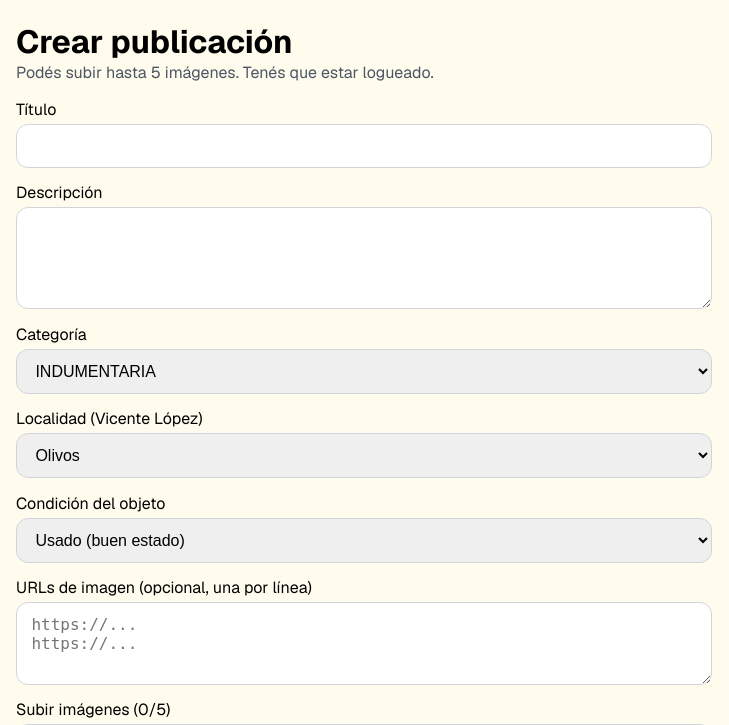
Test: CrearPublicacionPage › muestra error cuando falla la creación
The width and height of the screenshot is (729, 725).
In the field labelled "Título": {"x": 364, "y": 146} 16,124 -> 712,168, type "Mesa de comedor"
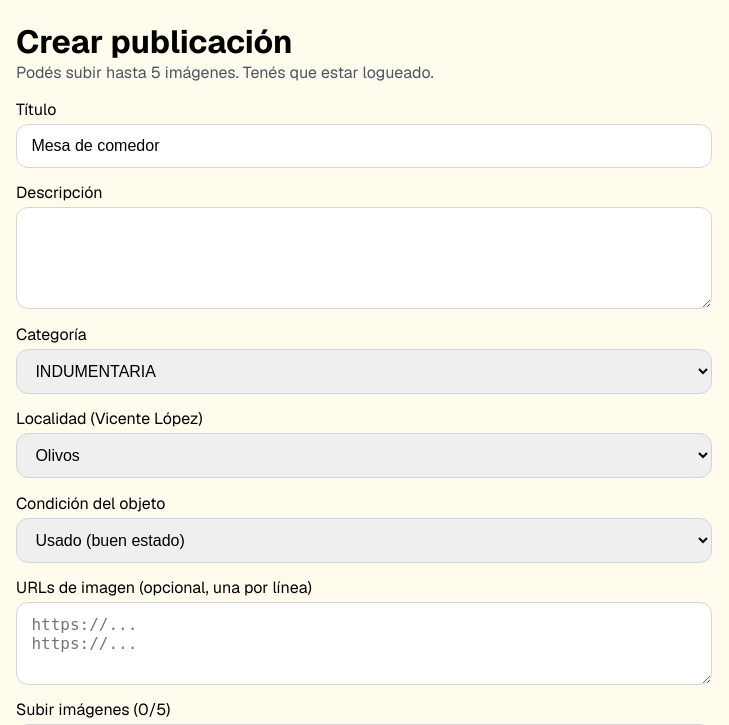
In the text box labelled "Descripción": {"x": 364, "y": 258} 16,207 -> 712,309, type "Mesa en buen estado para donar a una familia."
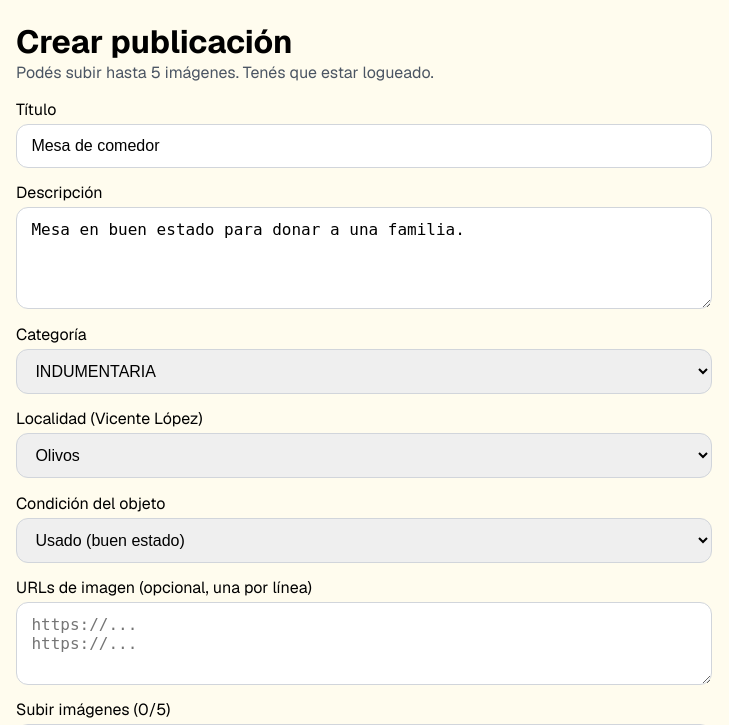
In the text box labelled "URLs de imagen (opcional, una por línea)": {"x": 364, "y": 644} 16,602 -> 712,685, type "http://localhost/uploads/mesa.jpg"
(page scrolled)
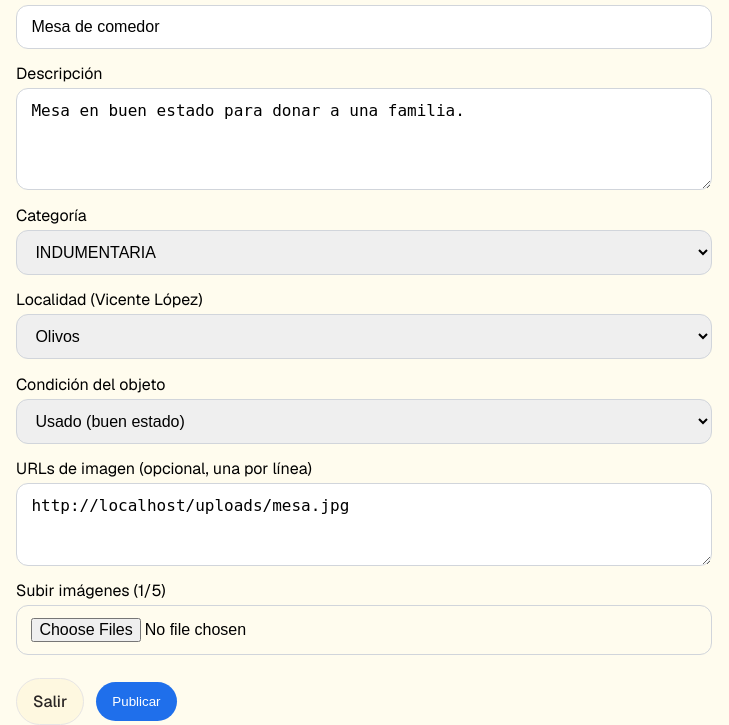
Click the button "Publicar": {"x": 136, "y": 701} 96,682 -> 177,721
(page scrolled)
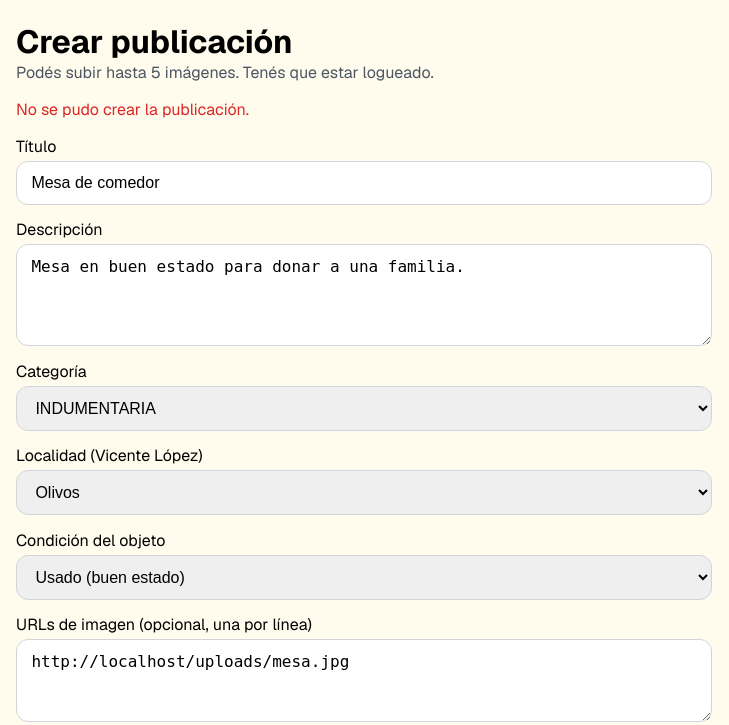
Check: the text "No se pudo crear la publicación." is shown, box 16,99 -> 249,120
